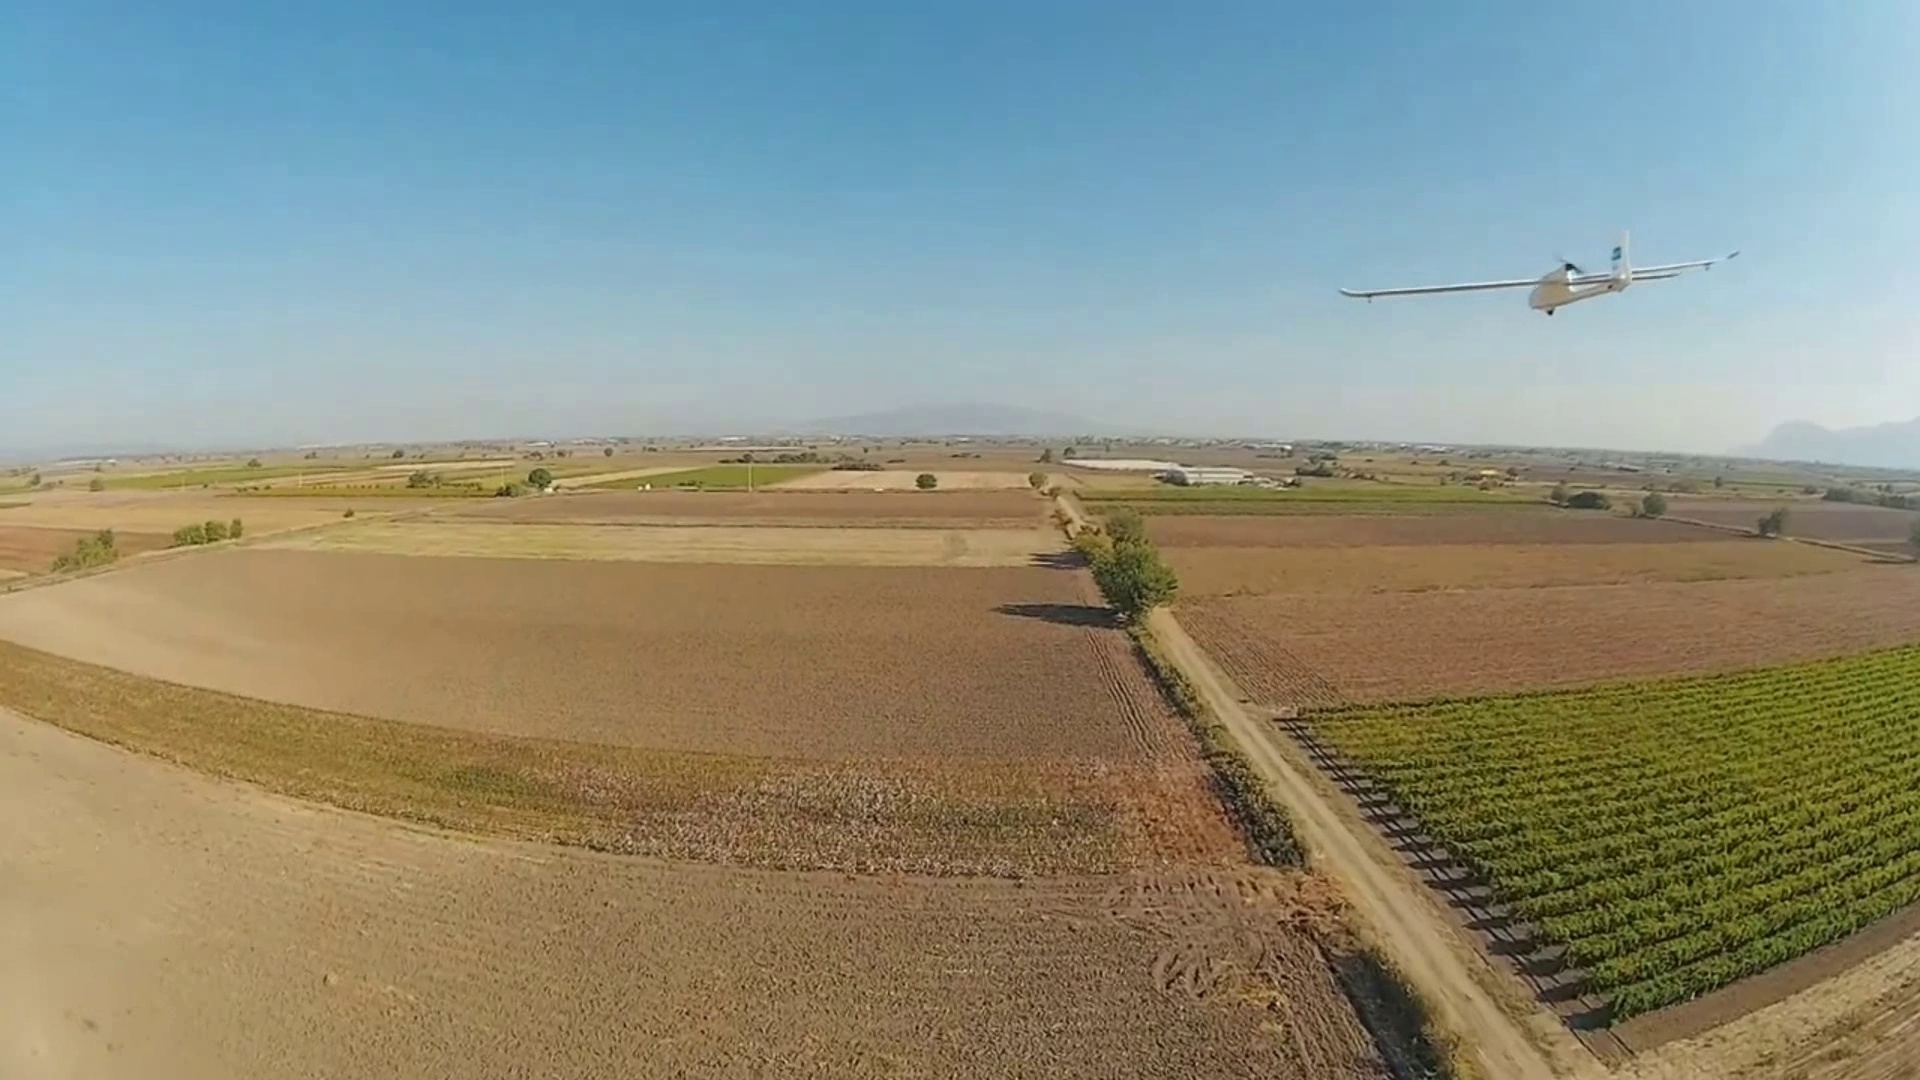airplane: (1335, 229, 1739, 316)
